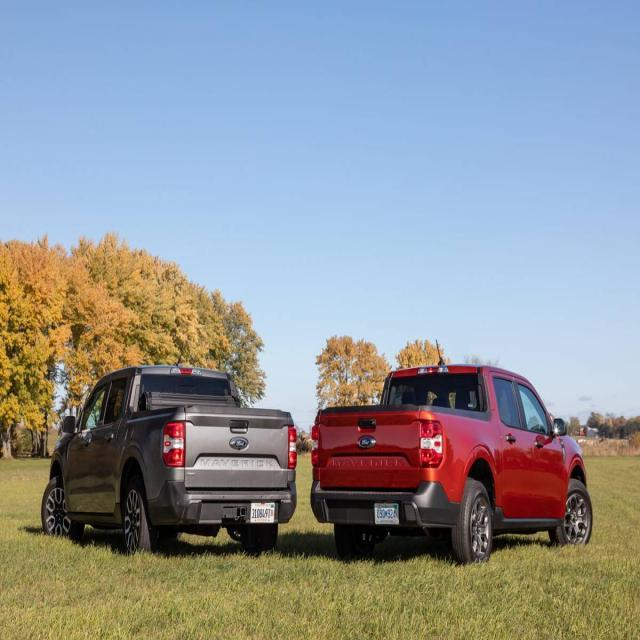person: (309, 351, 593, 566), (40, 362, 298, 556)
